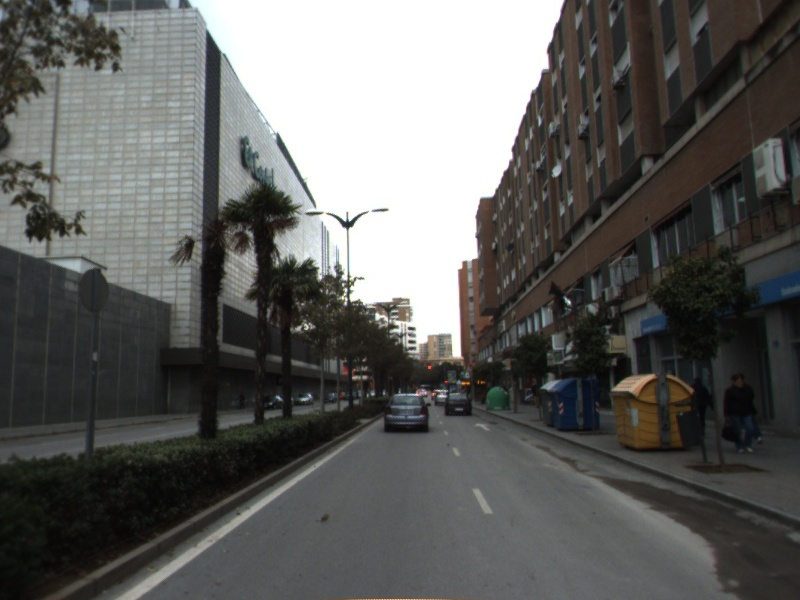STRAIGHT: (472, 421, 494, 433)
